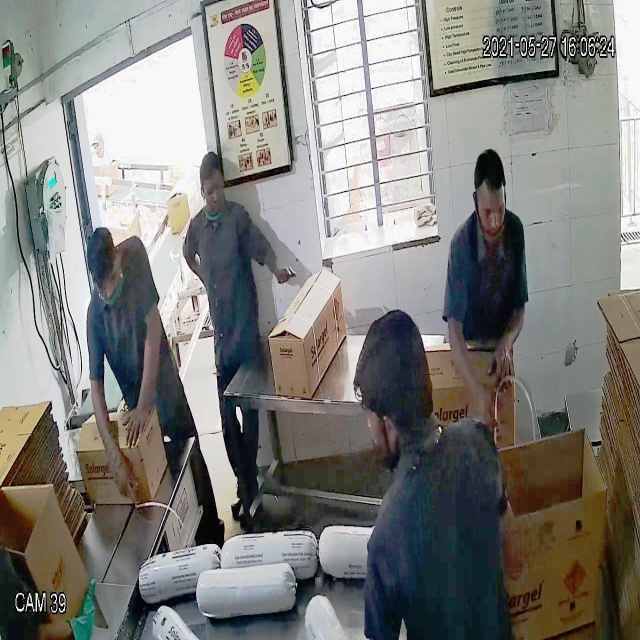Sin_gafas: (466, 194, 504, 221)
